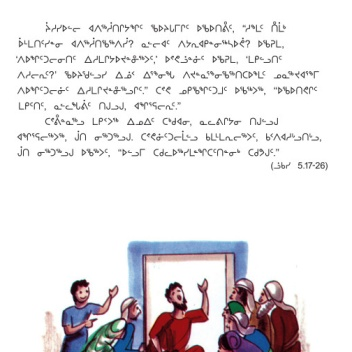inuktitut: (14, 127, 323, 144), (15, 66, 321, 82), (16, 33, 286, 50), (16, 81, 318, 96), (43, 16, 288, 34), (15, 50, 282, 65), (13, 145, 281, 159), (42, 112, 279, 127), (16, 95, 183, 112)
